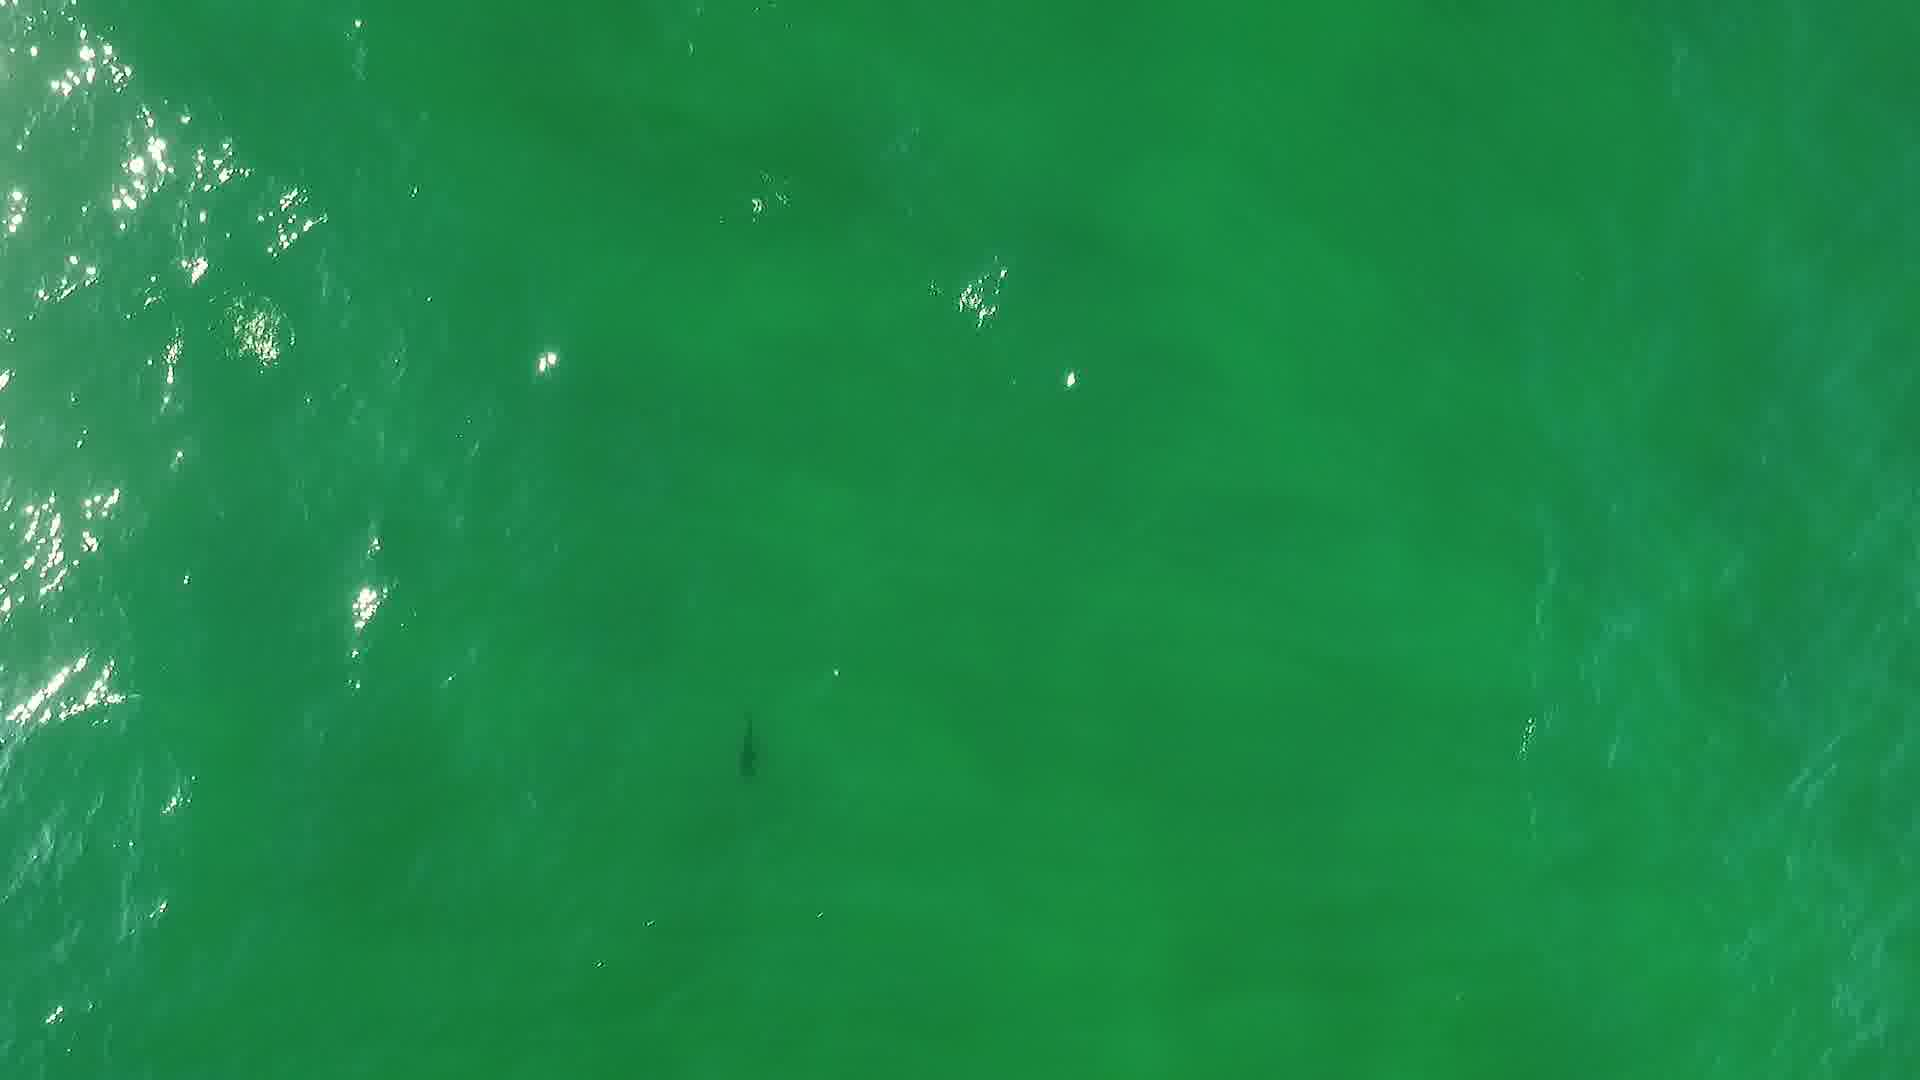shark: (724, 711, 777, 785)
